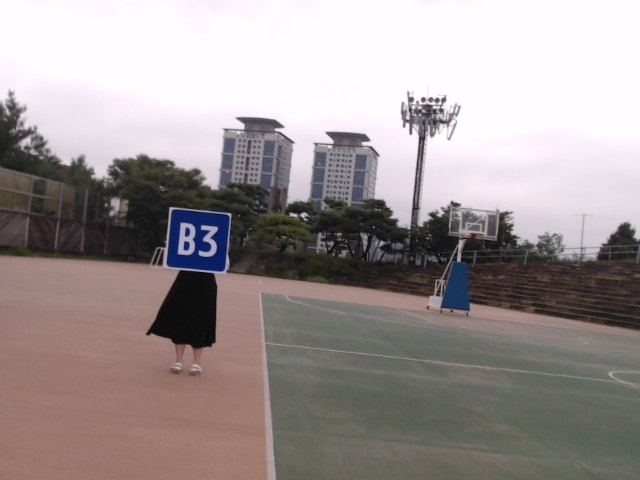delivery_b3: (165, 208, 231, 273)
